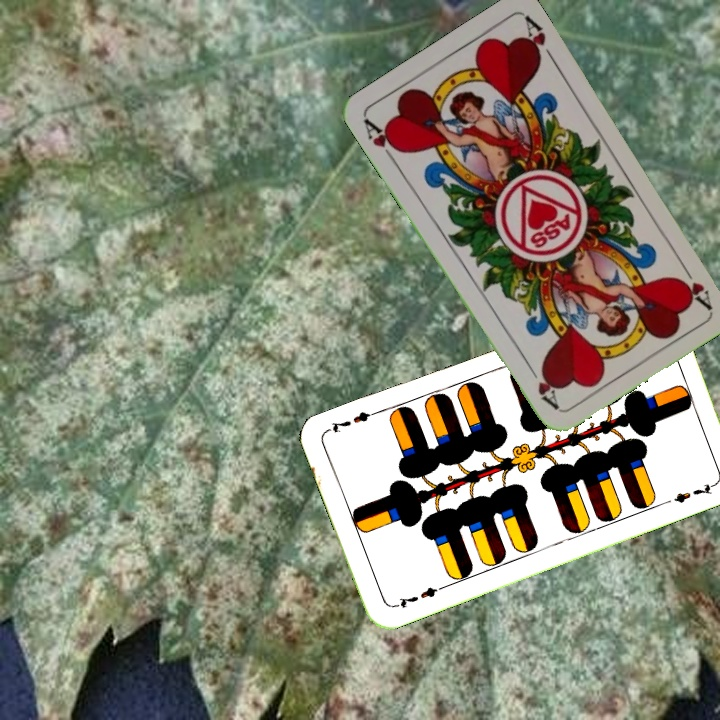E7: (389, 582, 446, 611)
HA: (359, 115, 405, 167), (674, 257, 714, 311)
